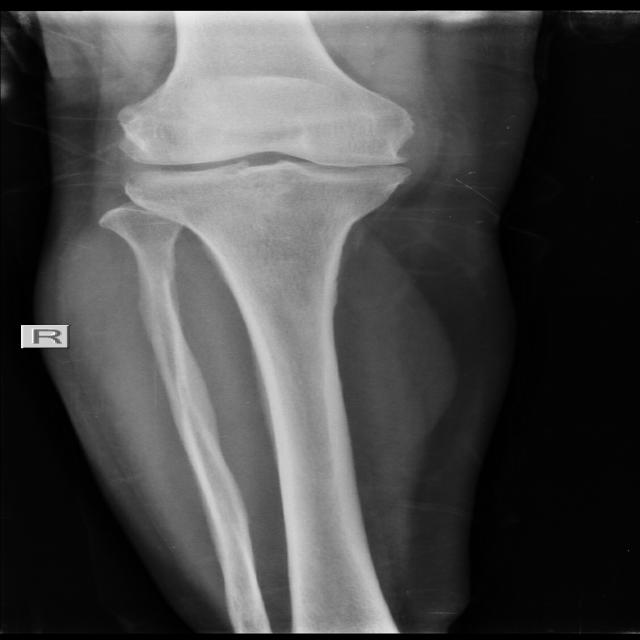normal: (114, 92, 424, 212)
